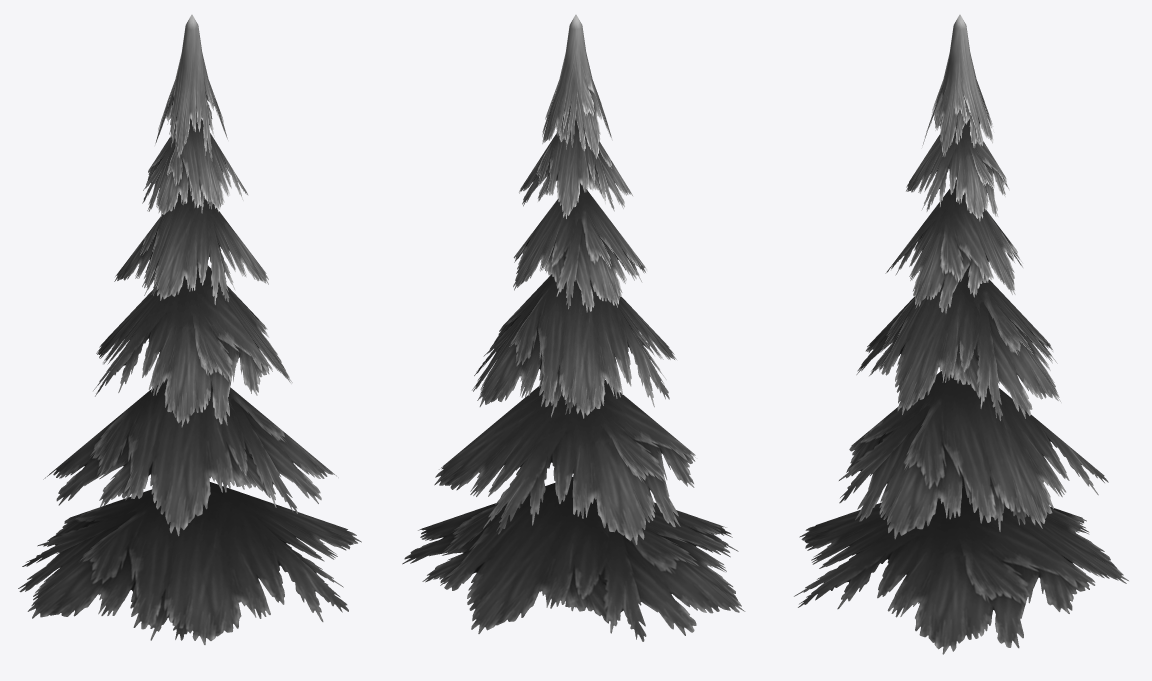
The model's file is Tree01.FBX.
3 views of the same model, side by side, from view 1: azimuth 30°, elevation 25°; view 2: azimuth 150°, elevation 25°; view 3: azimuth 270°, elevation 25° (orthographic).
Visible parts, largest first — view 1: Tree004; view 2: Tree004; view 3: Tree004.
Part boxes in pixels (bbox=[...]): Tree004: bbox=[18, 14, 361, 644]; Tree004: bbox=[402, 14, 745, 641]; Tree004: bbox=[794, 14, 1128, 654].
Bounding box in the file's own units: 1.96 × 2.97 × 1.69.
Materials: 1 (1 with a texture image).
